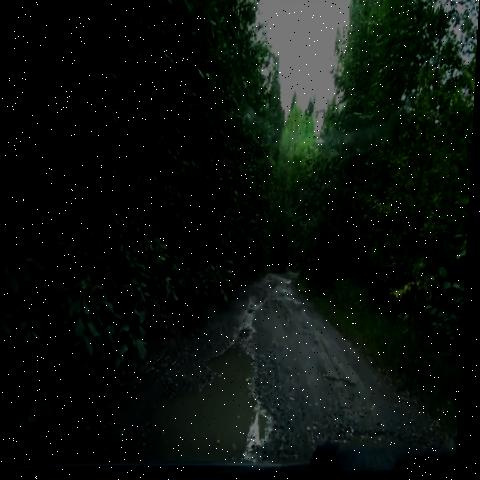pothole: (122, 312, 295, 467), (316, 370, 365, 398)
